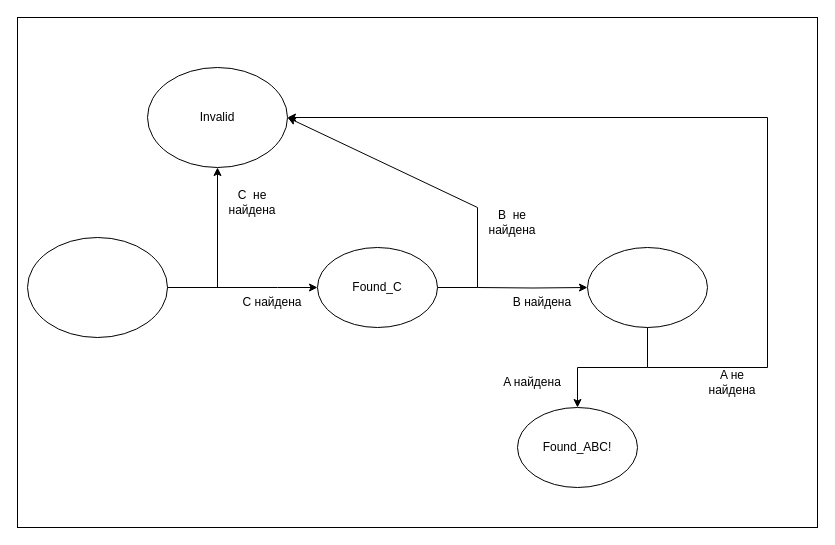
Image size: 835x545. Some labels were removed from this diagram. The centre of each missing label's shape, as x and y in pixels:
"Found_BC" goes at (x=647, y=287).
"Start" goes at (x=97, y=287).
